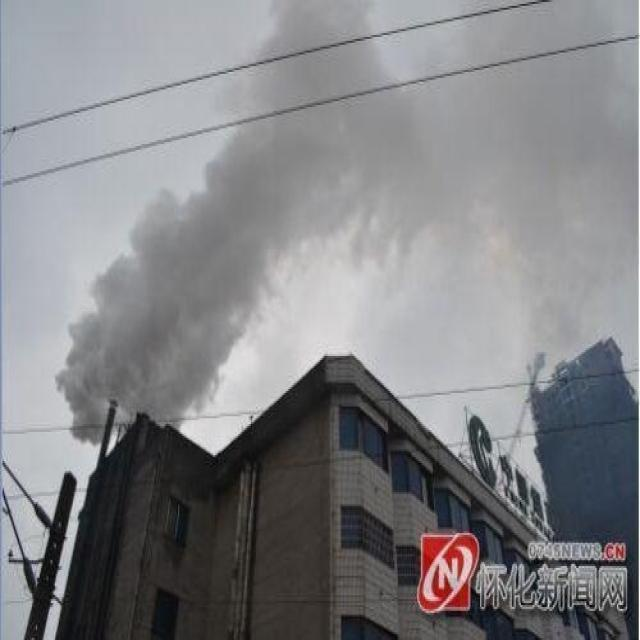Smoke: (55, 2, 640, 450)
